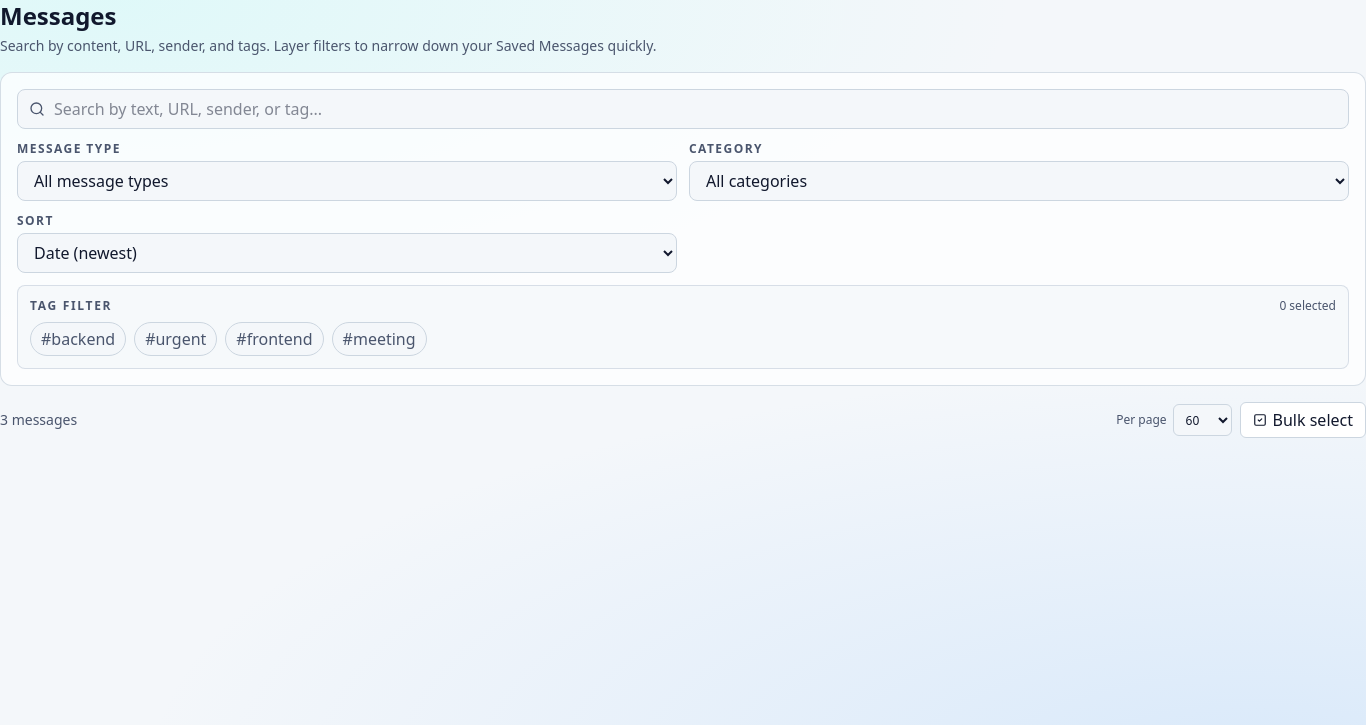
MessagesPage actions › bulk-tags selected messages and applies tags locally without duplicates
This screenshot has width=1366, height=725.
Expected: the text "3 messages" is shown, [0,410,77,430]
What coordinates should you click on to do the following:
click the button "Bulk select"
I would click on:
 (1303, 420)
Its box is [1240,402,1365,438].
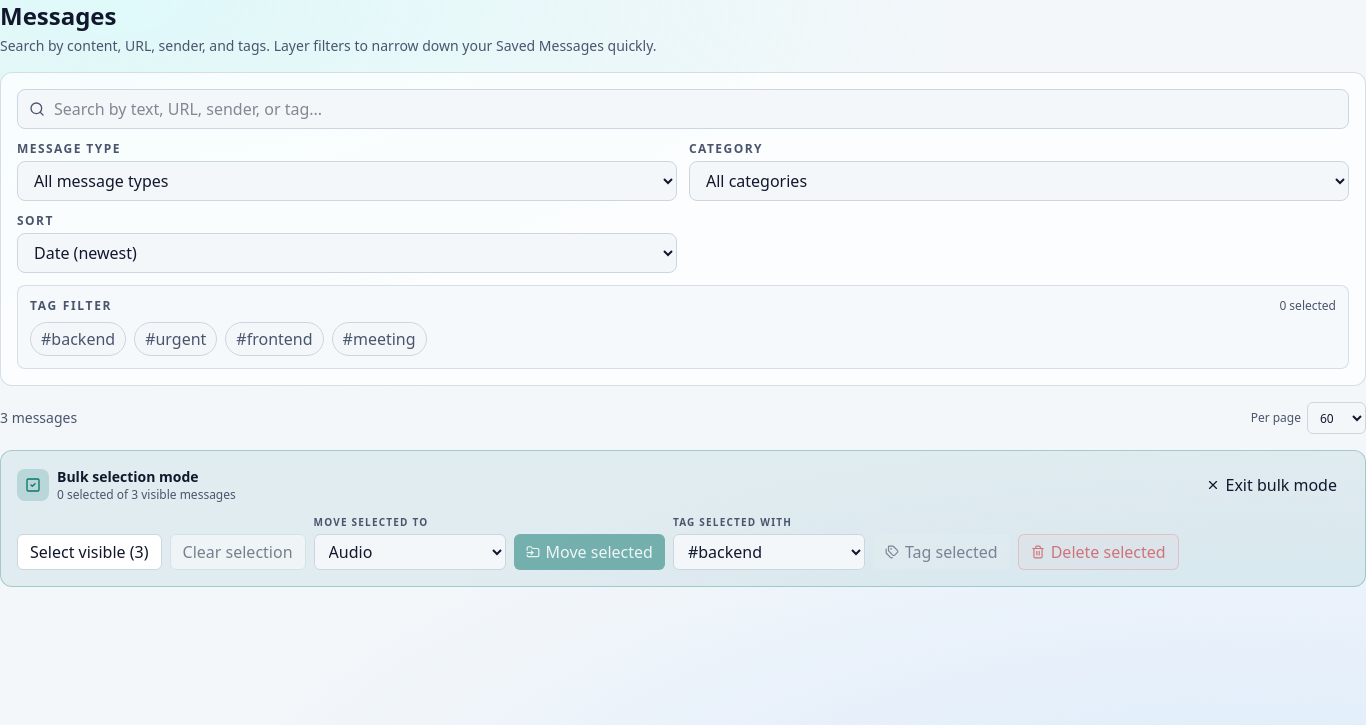
What coordinates should you click on to do the following:
click the button "Select visible (3)"
I would click on:
 (89, 552)
Its box is [17,534,162,570].
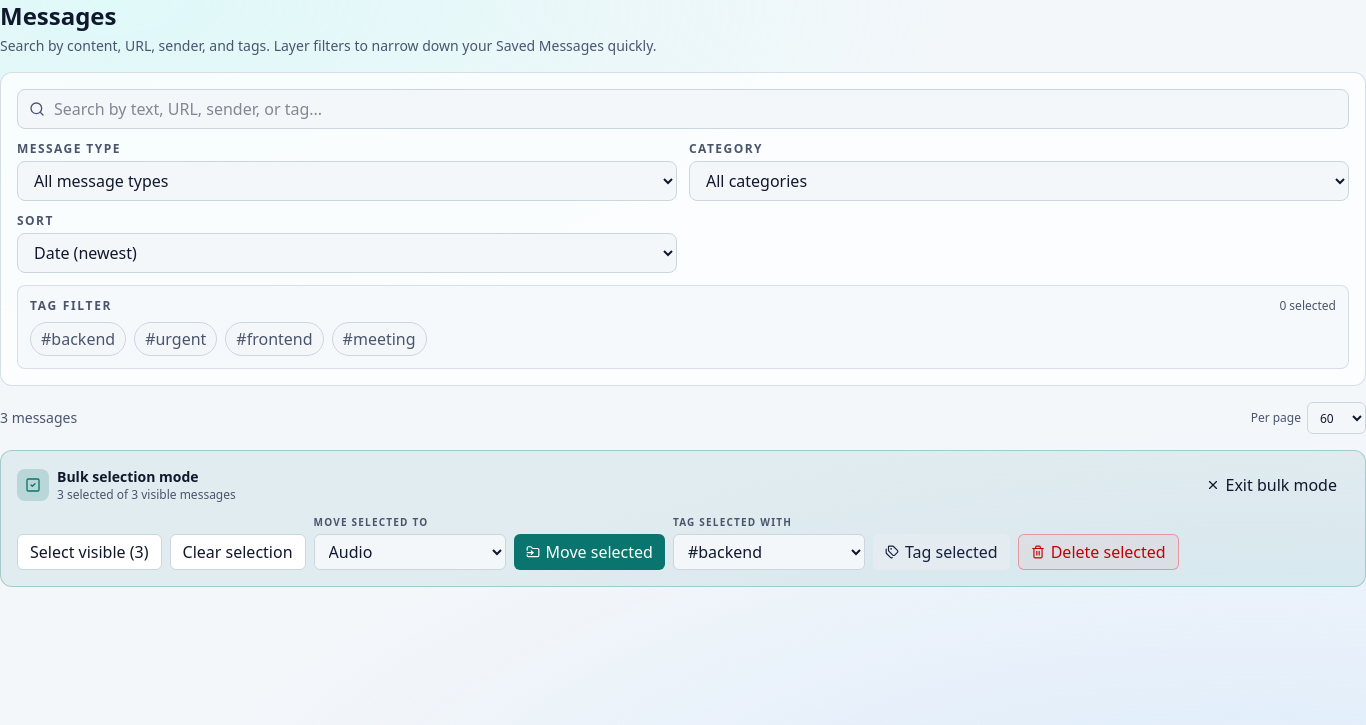
What coordinates should you click on to do the following:
click the button "Tag selected"
I would click on:
 (941, 552)
Its box is [873,534,1010,570].
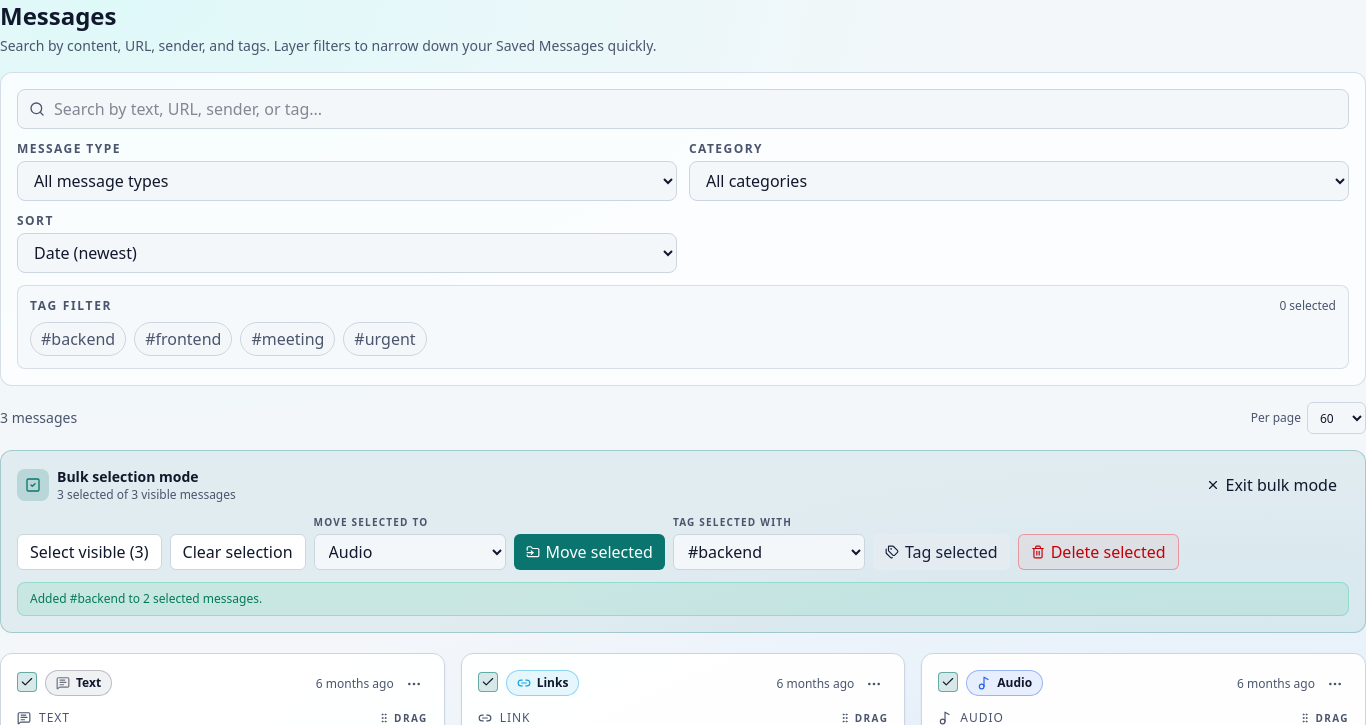
Result: the text "Added #backend to 2 selected messages." is shown at [17,582,1349,616]
What coordinates should you click on to do the following:
click the button "Tag selected"
I would click on:
 (941, 552)
Its box is [873,534,1010,570].
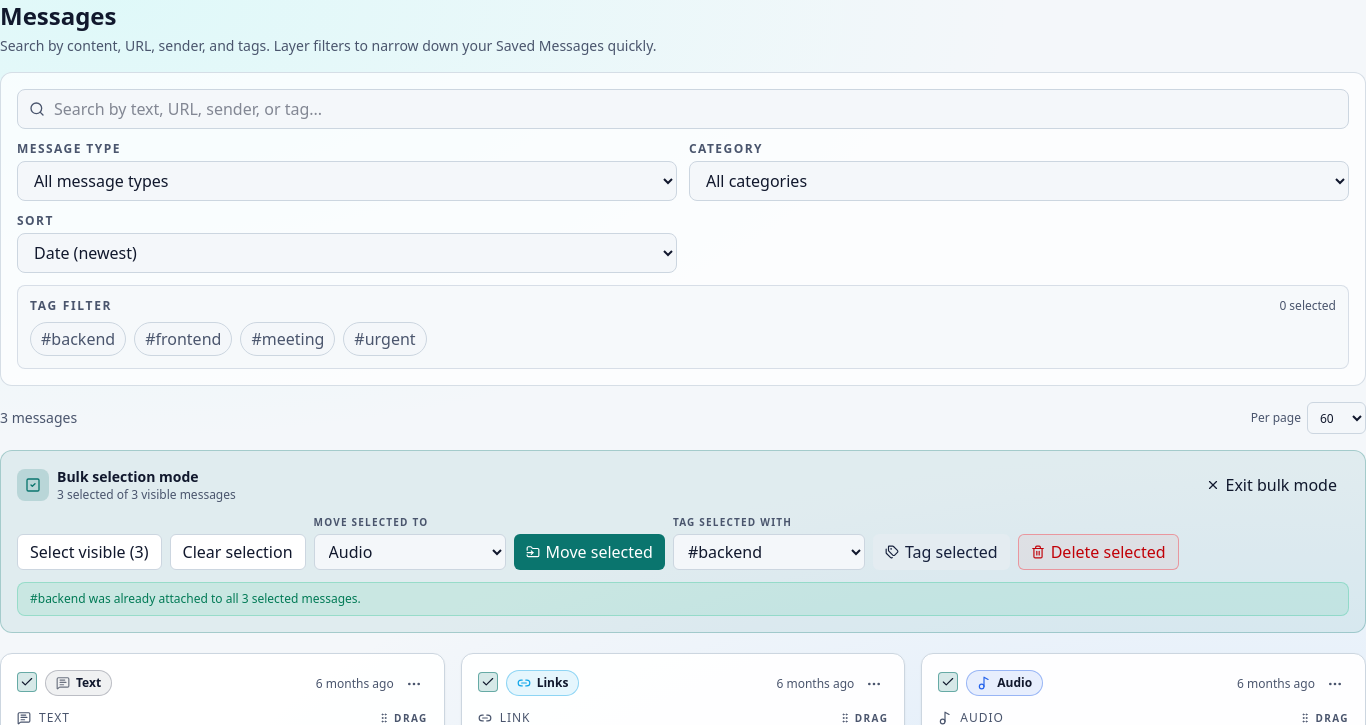
Result: the text "#backend was already attached to all 3 selected messages." is shown at [17,582,1349,616]
What coordinates should you click on to do the following:
click the button "Clear selection"
I would click on:
 (238, 552)
Its box is [170,534,306,570].
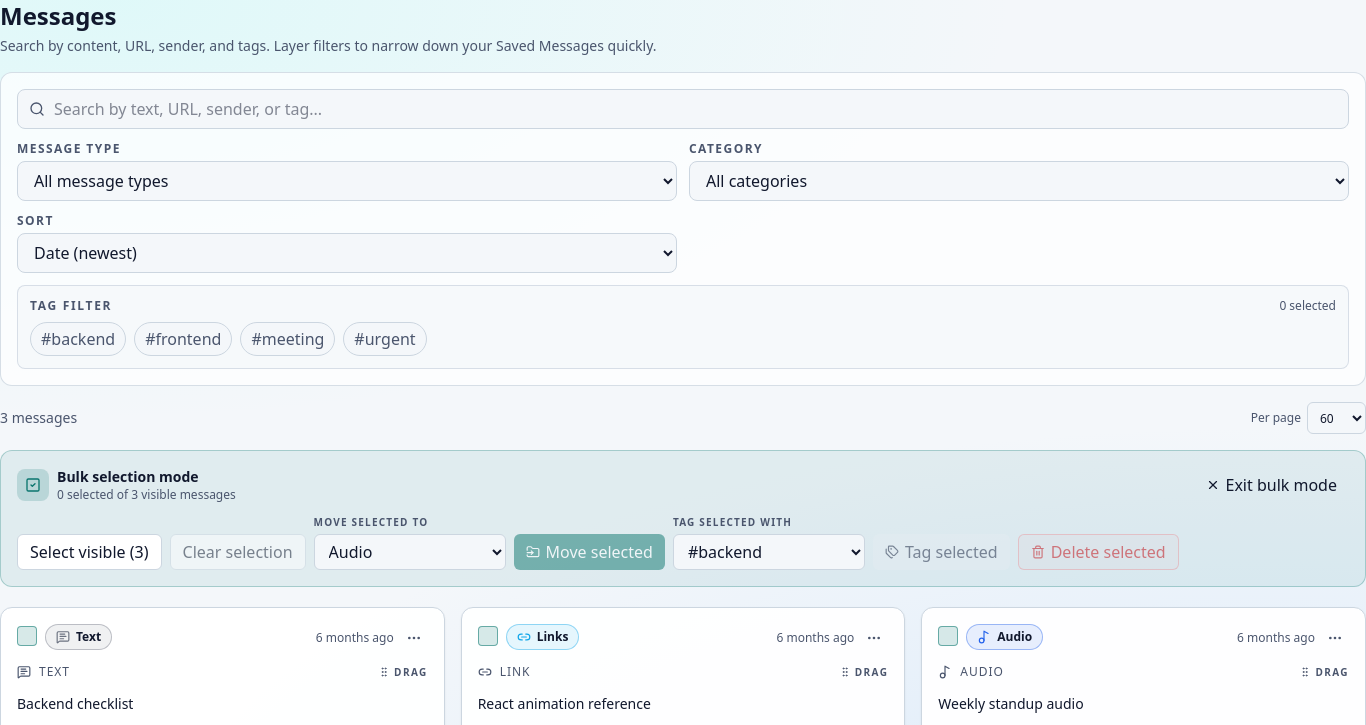
Result: the text "#backend was already attached to all 3 selected messages." is gone
